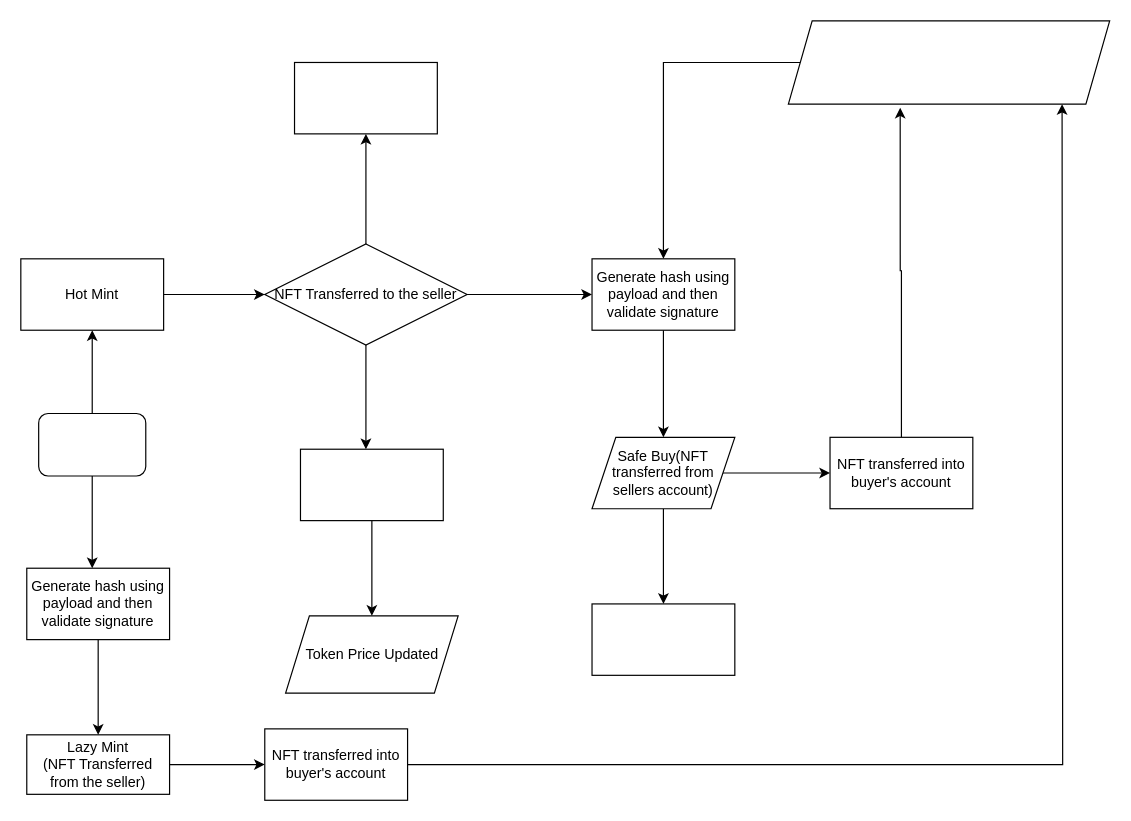
The diagram is 1131 pixels wide and 821 high, and some of its shapes have lost their labels. Here are the shapes that lost their labels. From the top down, the centre of each, then its label:
pixel 948 62: Buyer become the seller
pixel 365 97: Set commision for the NFT
pixel 91 444: Create NFT
pixel 371 484: Update Token Price
pixel 663 639: Commision Receiver received the default commision
